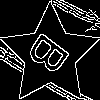B: (24, 30, 79, 84)
